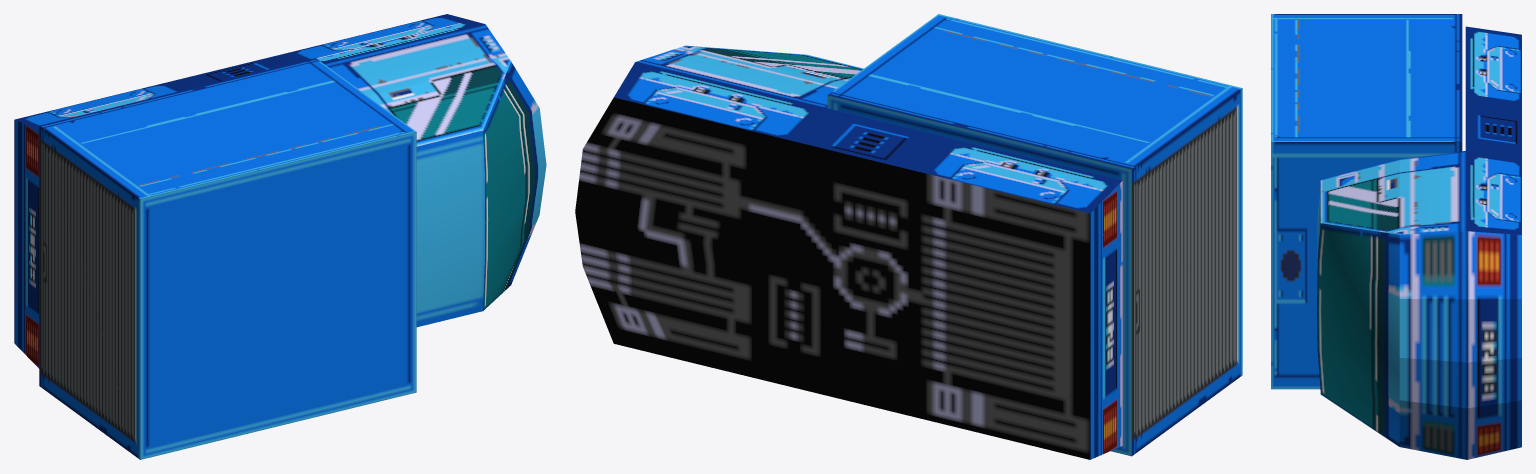
The model's file is boxTruck.obj.
The picture shows the model from 3 angles, left to right: view 1: azimuth 30°, elevation 25°; view 2: azimuth 150°, elevation 25°; view 3: azimuth 270°, elevation 25°; orthographic projection. The views are drawn at different scales.
Parts seen in each view (by area): view 1: truck_box, truck; view 2: truck, truck_box; view 3: truck, truck_box.
Boxes of the visible parts, left/top/right/bottom form: truck_box: left=39, top=58, right=416, bottom=459; truck: left=14, top=14, right=546, bottom=368; truck: left=575, top=45, right=1122, bottom=459; truck_box: left=827, top=14, right=1242, bottom=456; truck: left=1317, top=26, right=1521, bottom=459; truck_box: left=1271, top=14, right=1462, bottom=389.
Size of the model in its own units: 57.22 by 29.47 by 27.1.
